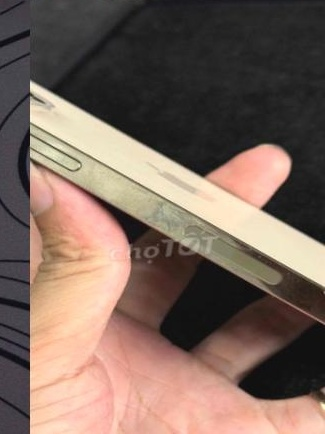scratch: (128, 188, 231, 257), (318, 281, 325, 300)
